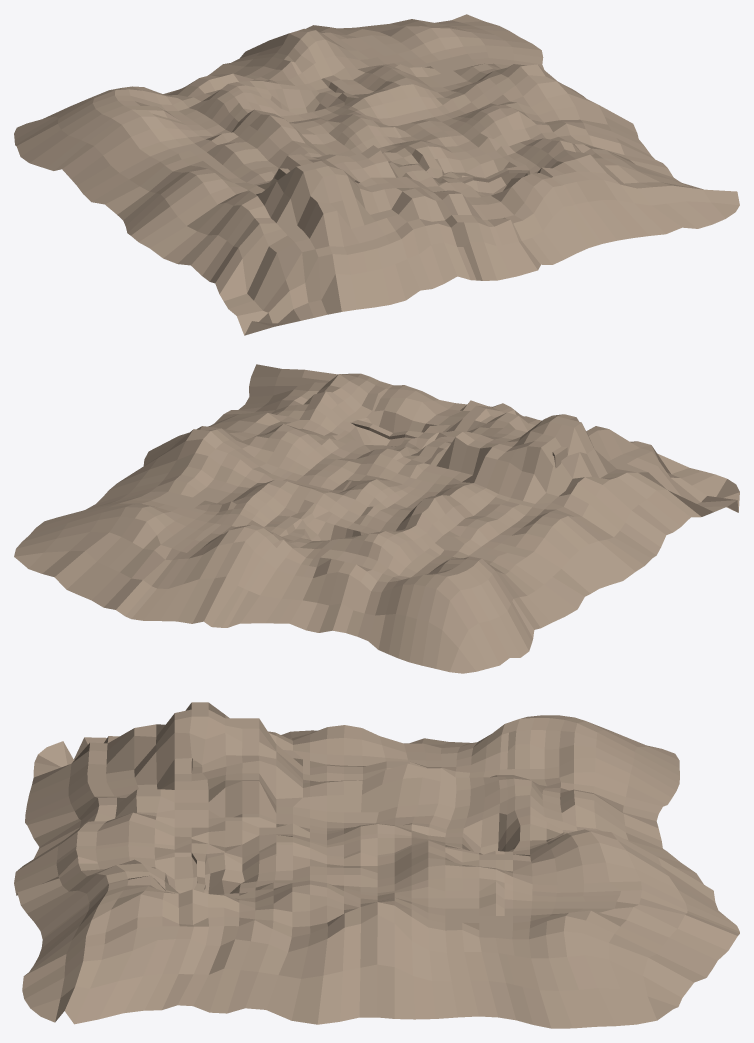
File: ilha6_feup (1).fbx
3 views of the same model, one above another, from view 1: azimuth 30°, elevation 25°; view 2: azimuth 150°, elevation 25°; view 3: azimuth 270°, elevation 25° (orthographic). The views are drawn at different scales.
Parts seen in each view (by area): view 1: island; view 2: island; view 3: island.
Boxes of the visible parts, box(x1,y1,x2,y2) form: island: box(14, 14, 739, 335); island: box(14, 364, 739, 673); island: box(14, 702, 739, 1028).
Bounding box in the file's own units: 22263 × 4268 × 23329.
